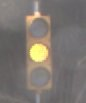Yellow: (25, 6, 58, 96)
